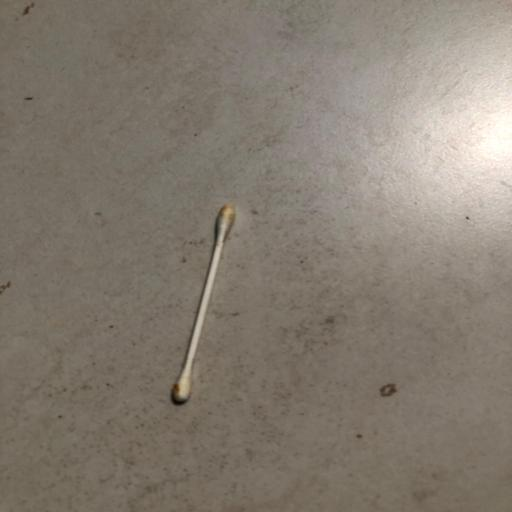waste: (168, 198, 249, 424)
